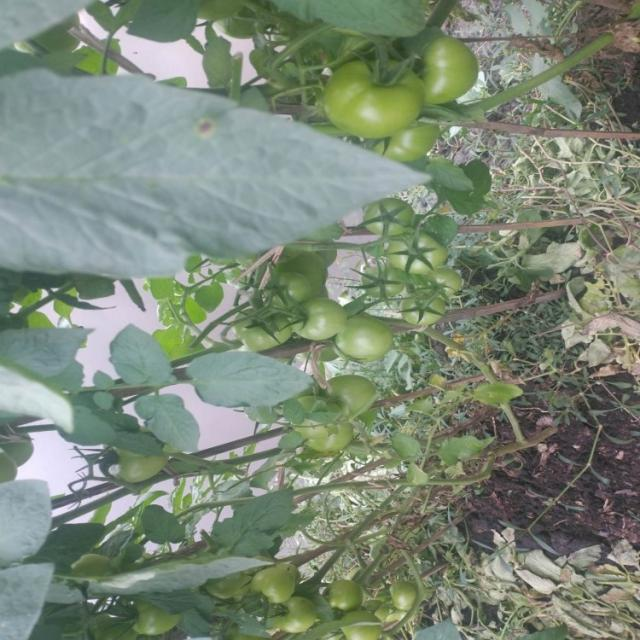tomato: (320, 62, 430, 156), (407, 24, 487, 117), (332, 307, 395, 372), (318, 362, 385, 417), (289, 293, 351, 351), (353, 196, 426, 243), (375, 120, 443, 166), (259, 256, 310, 312), (233, 295, 291, 342), (402, 277, 449, 334), (387, 230, 442, 277), (289, 416, 350, 458), (109, 440, 158, 489), (361, 253, 405, 306), (252, 556, 302, 601), (278, 241, 334, 278), (279, 589, 321, 637), (323, 614, 397, 640), (422, 258, 468, 299), (387, 572, 428, 618), (129, 599, 172, 640), (329, 574, 358, 618)
